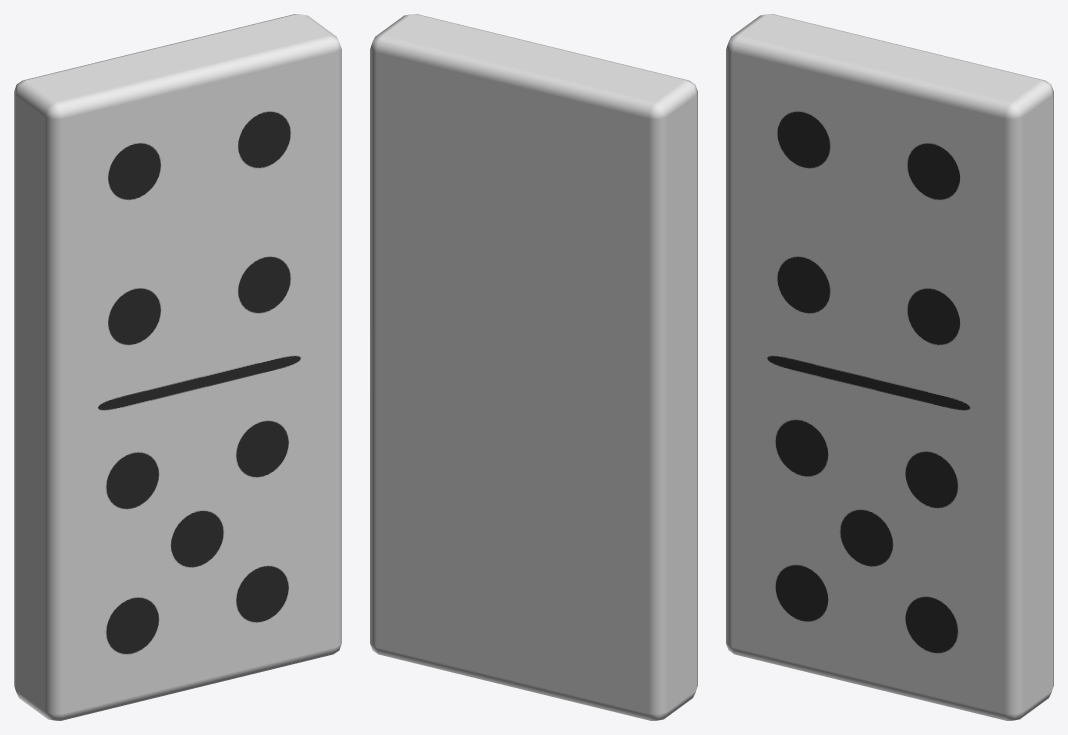
3 renders of one model, left to right at view 1: azimuth 30°, elevation 25°; view 2: azimuth 150°, elevation 25°; view 3: azimuth 330°, elevation 25°, orthographic.
Visible parts, largest first — view 1: Low; view 2: Low; view 3: Low.
Boxes of the visible parts, x1,y1,x2,y2 form: Low: (14,14,341,720); Low: (370,14,697,720); Low: (726,14,1053,720).
Size of the model in its own units: 0.0254 by 0.0508 by 0.00635.
Materials: 1 (1 with a texture image).
